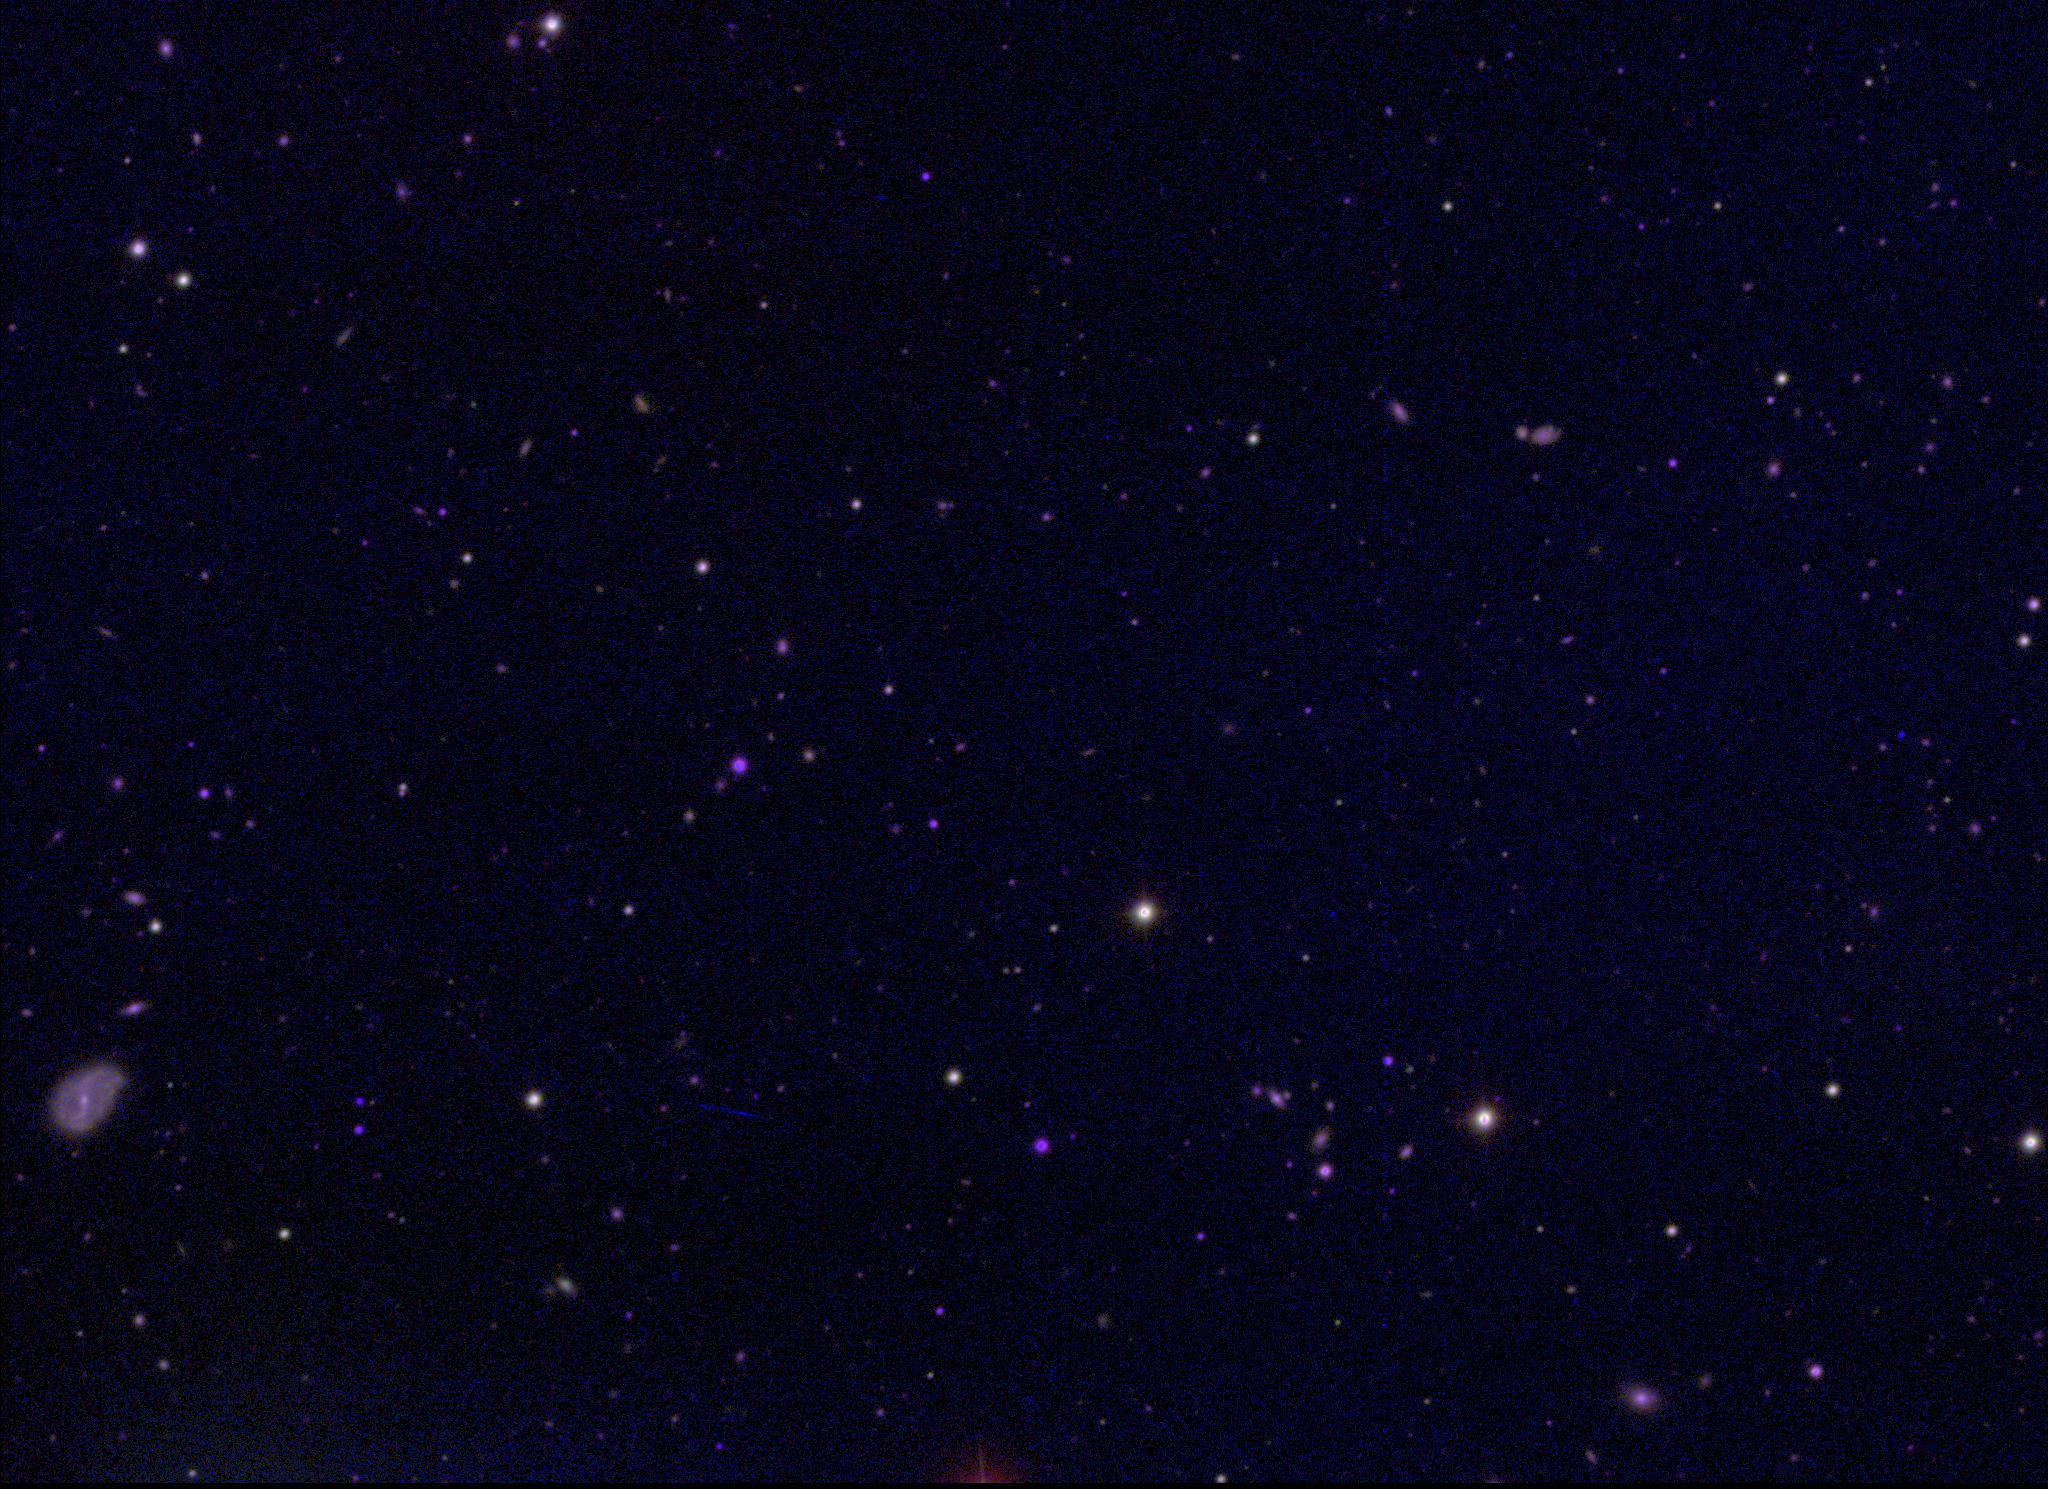L: (1895, 727, 1910, 741)
